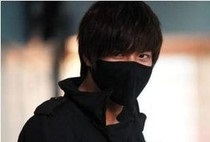face_mask: (93, 31, 154, 103)
